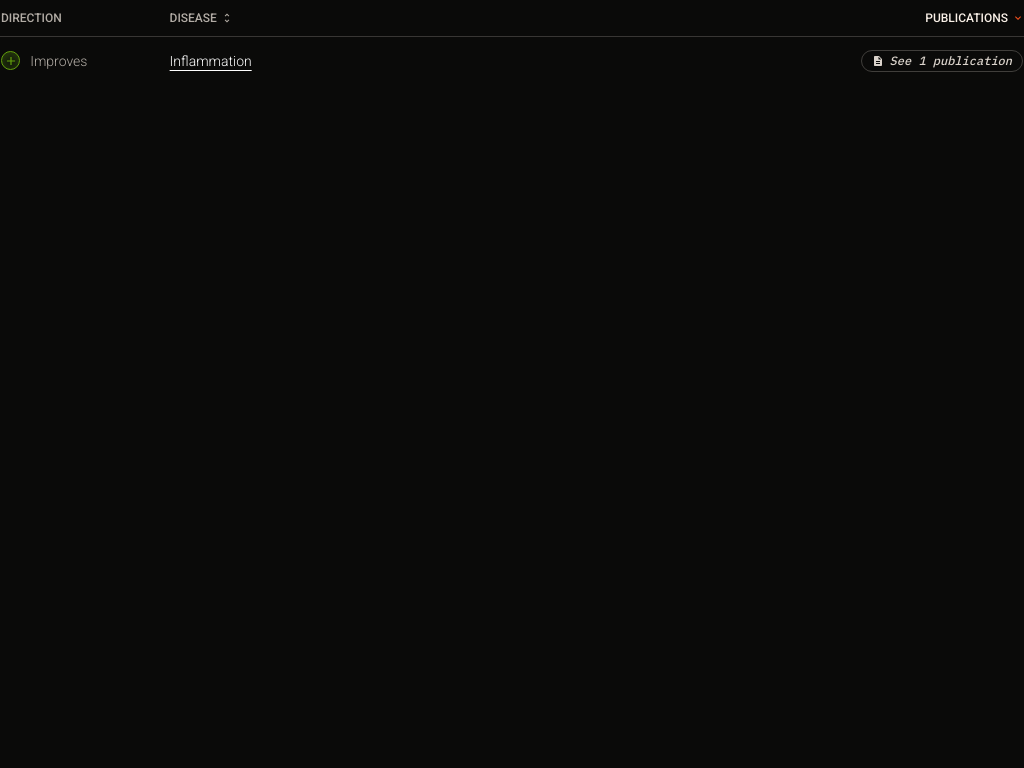
Test: mixed rows › does not group a single-direction row in the modal
Expected: the link "inflammation" is shown, x1=170 y1=50 x2=252 y2=70
What coordinates should you click on to do the following:
click the button "See 1 publication"
I would click on:
 (942, 60)
Its box is x1=861 y1=50 x2=1023 y2=72.
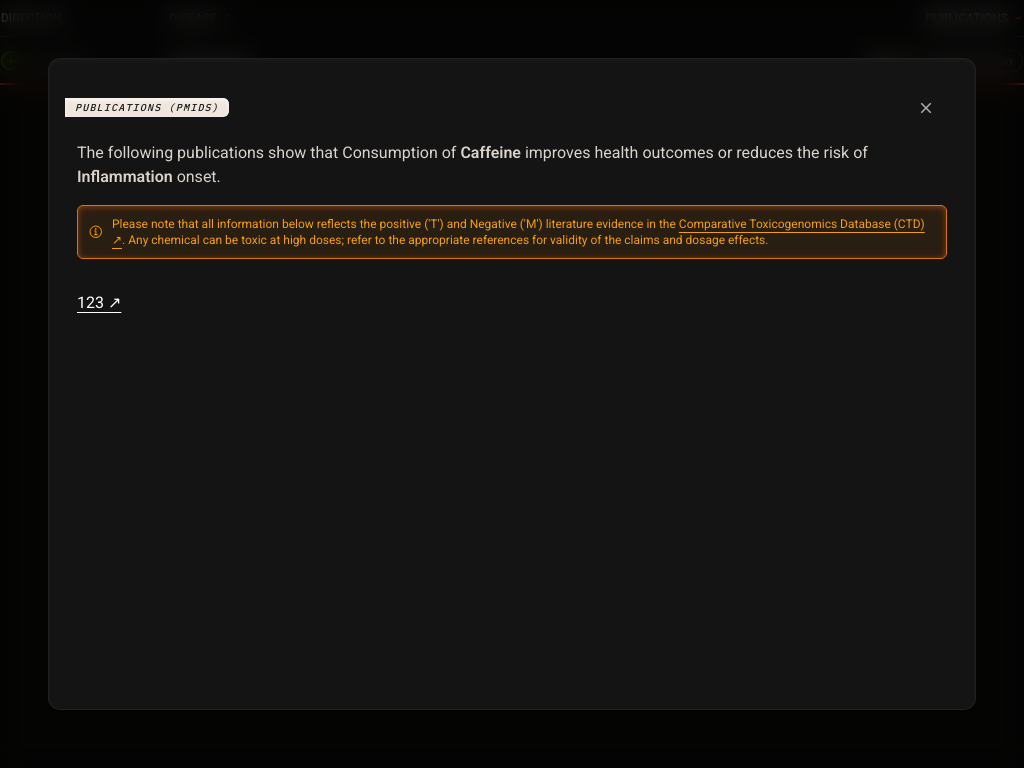
Result: the heading "Publications (PMIDs)" is shown at x1=65 y1=98 x2=229 y2=117
Result: the link "123 ↗︎" is shown at x1=77 y1=291 x2=121 y2=315
